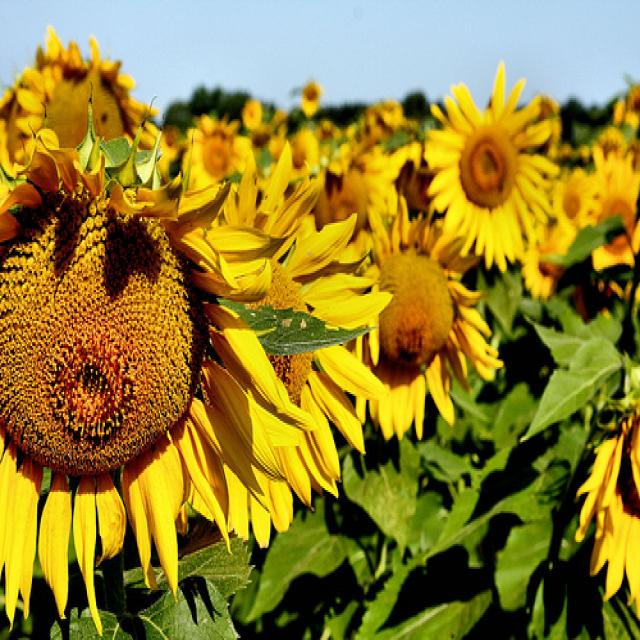sunflower: (0, 140, 264, 598), (316, 214, 504, 443), (426, 59, 558, 270), (586, 156, 640, 265)
